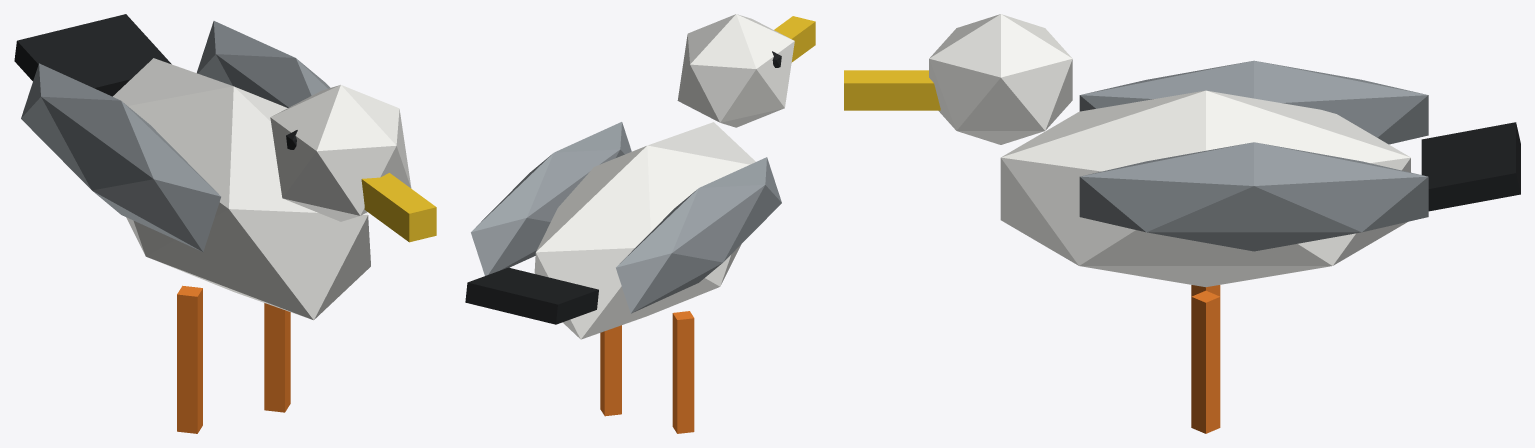
File: Seagull.glb
The picture shows the model from 3 angles, left to right: view 1: azimuth 30°, elevation 25°; view 2: azimuth 150°, elevation 25°; view 3: azimuth 270°, elevation 25°; orthographic projection. The views are drawn at different scales.
Parts seen in each view (by area): view 1: Seagull; view 2: Seagull; view 3: Seagull.
Part boxes in pixels (x1,y1,x2,y2): Seagull: (14, 14, 436, 433); Seagull: (465, 14, 815, 433); Seagull: (844, 14, 1520, 433).
Size of the model in its own units: 0.2137 by 0.36 by 0.5612.
1 material, 1 textured.
